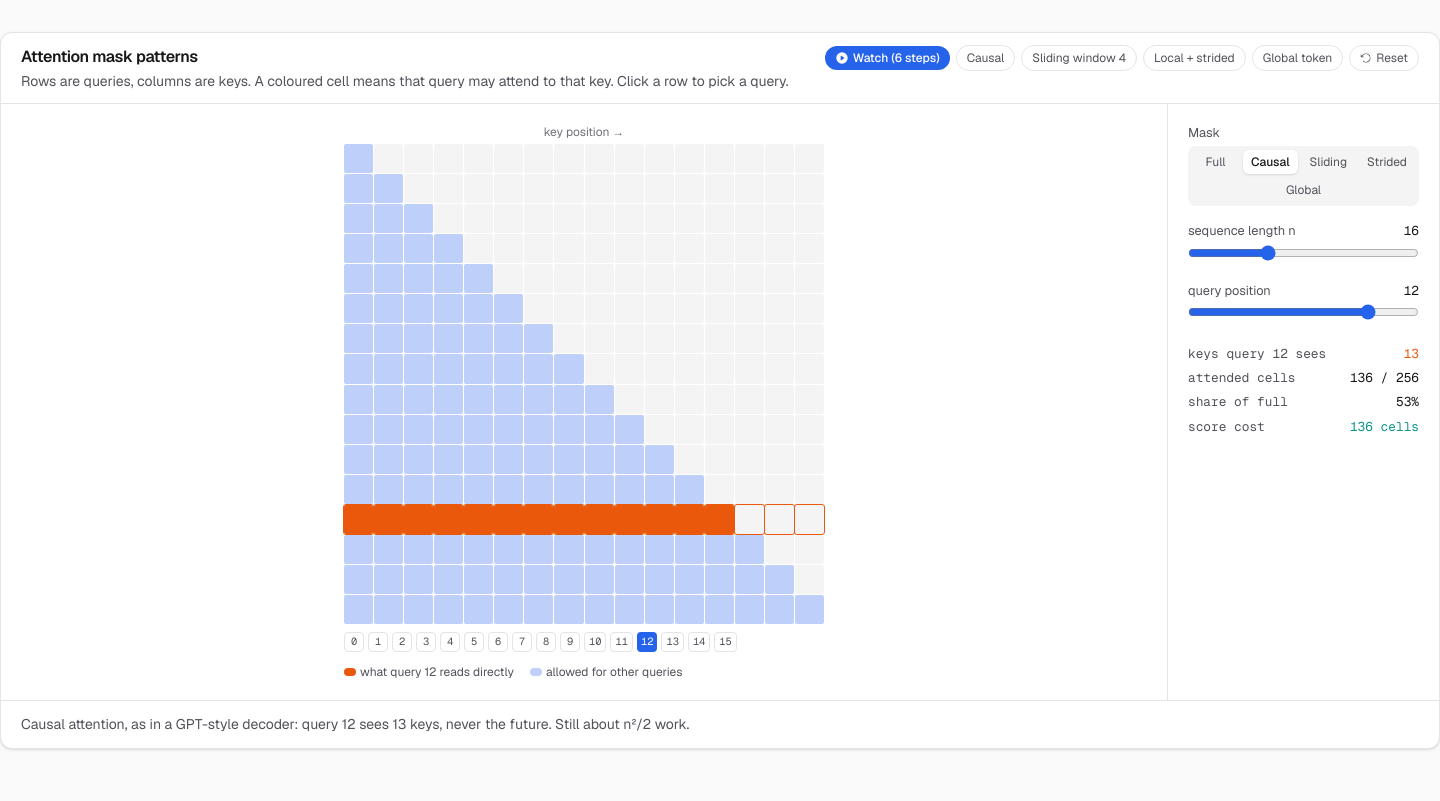
Test: attention mask math matches the lesson script › renders and responds to presets
Expected: the text "136 / 256" is shown, [1350,369,1419,387]
Click the button "Sliding window 4": (1079, 58) [1021,45,1137,71]
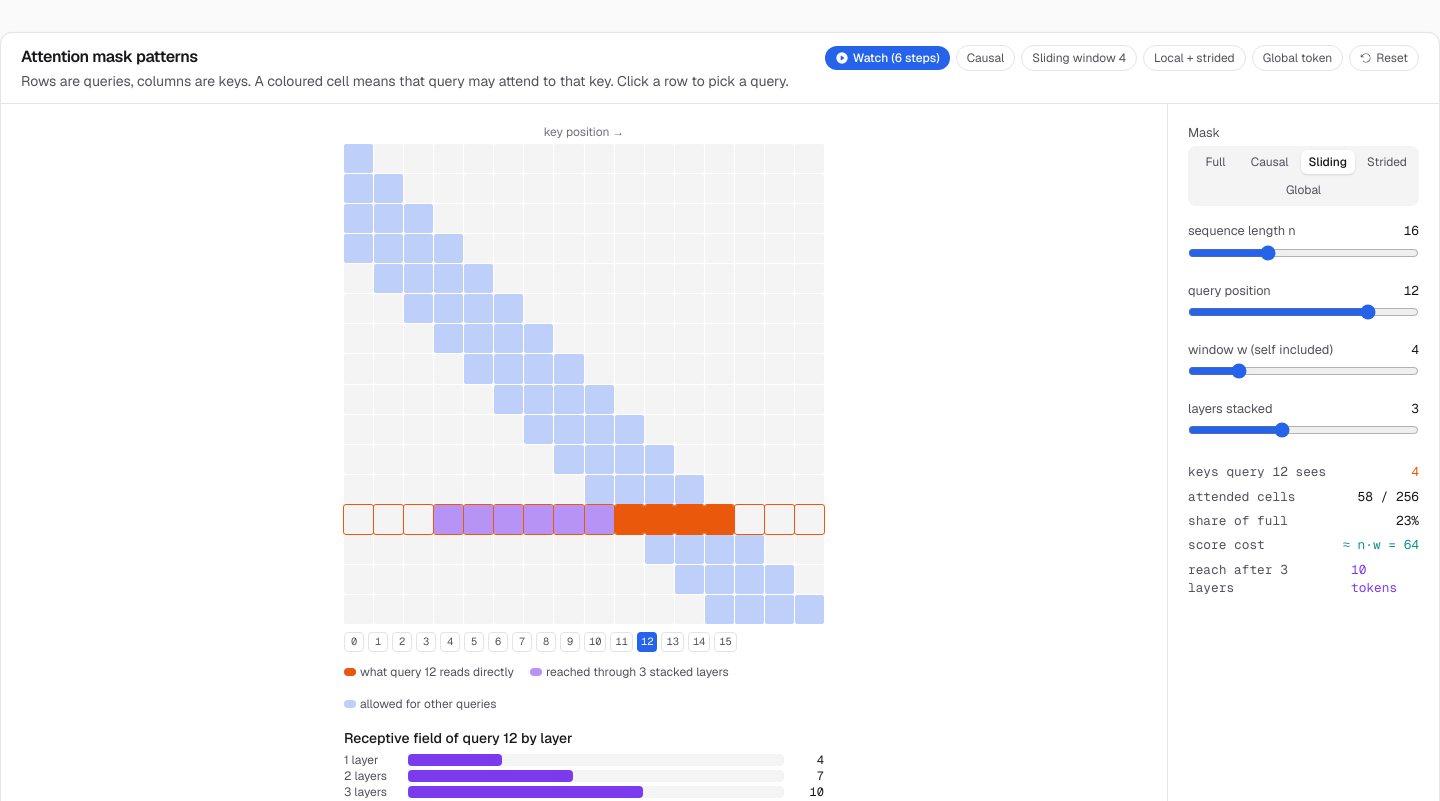
Expected: the text "58 / 256" is shown, [1358,488,1419,506]
